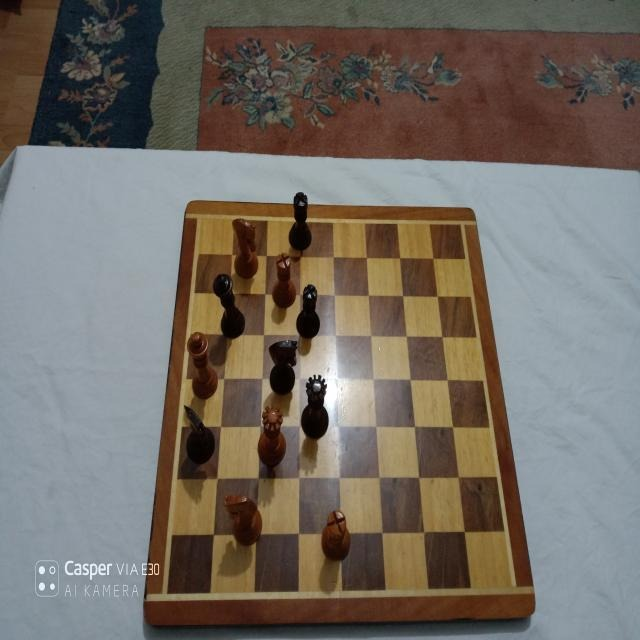black-king: (213, 273, 246, 339)
black-knight: (182, 403, 216, 463), (267, 338, 299, 394)
black-queen: (300, 373, 329, 439)
black-rook: (287, 191, 312, 251), (295, 282, 320, 338)
white-king: (186, 330, 218, 400)
white-knight: (222, 491, 262, 545), (232, 217, 260, 279)
white-queen: (258, 402, 286, 465)
white-rook: (320, 508, 351, 562), (271, 252, 297, 308)
